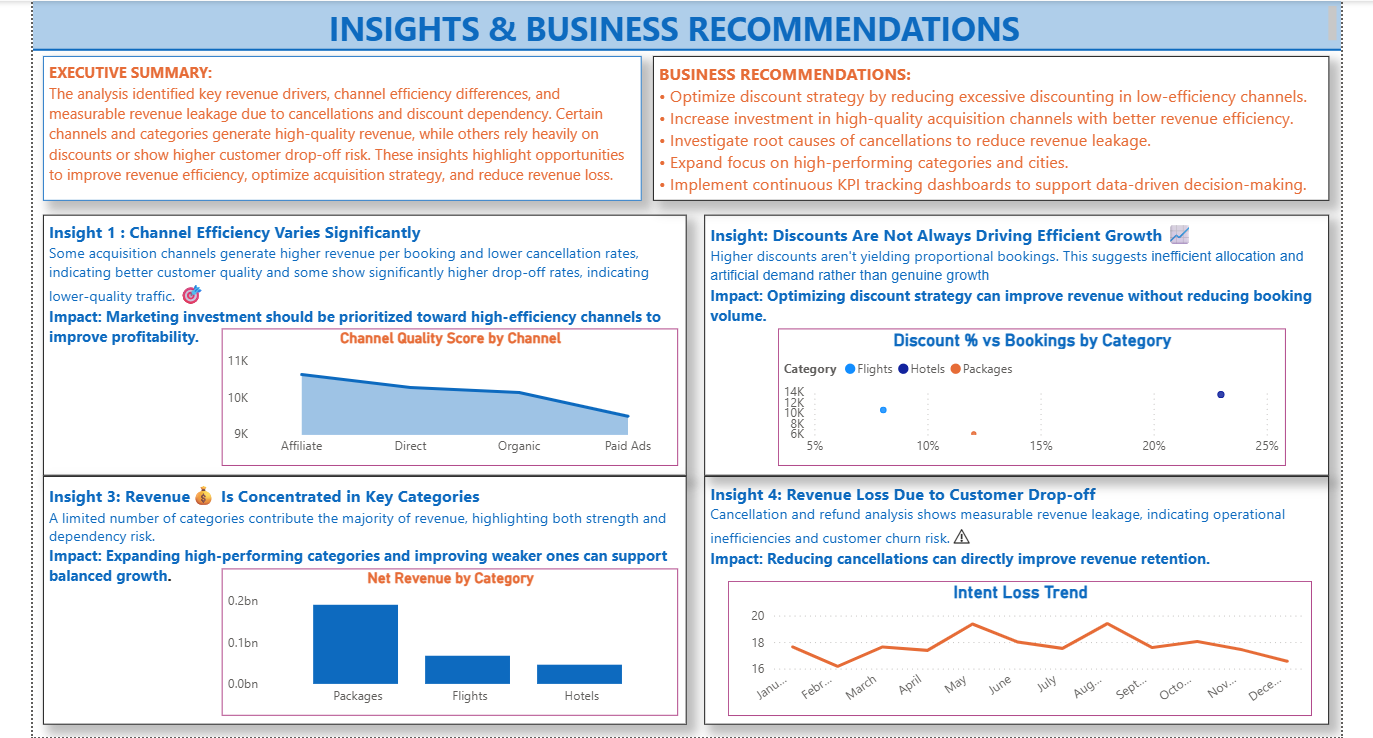

This screenshot's page, from the dashboard's own definition file:
{"tool":"powerbi","page":{"name":"Business Insights & Strategic Recommendations","canvas":[1280,720],"ordinal":8},"visuals":[{"type":"textbox","box":[0,0,1280.3,47.7],"z":0},{"type":"textbox","box":[656.7,464.7,611.4,243.3],"z":1000},{"type":"textbox","box":[9.8,53.8,585.7,141.8],"z":2000},{"type":"textbox","box":[9.8,209.1,629.8,255.6],"z":3000},{"type":"textbox","box":[656.7,209.1,611.4,255.6],"z":4000},{"type":"textbox","box":[9.8,464.7,629.8,243.3],"z":5000},{"type":"textbox","box":[606.5,53.8,661.6,141.8],"z":6000},{"type":"stackedAreaChart","fields":{"Category":["Bookings_Data.Channel"],"Y":["Bookings_Data.Channel Quality Score"]},"box":[184.6,320.4,446.3,134.5],"z":7000},{"type":"lineChart","title":"Intent Loss Trend","fields":{"Y":["Bookings_Data.Cancellation Rate"],"Category":["Bookings_Data.Booking_Date.Variation.Date Hierarchy.Month"]},"box":[679.9,567.4,571.1,132.1],"z":8000},{"type":"lineClusteredColumnComboChart","title":"Net Revenue by Category","fields":{"Category":["Bookings_Data.Category"],"Y":["Sum(Bookings_Data.Net_Revenue)"]},"box":[184.6,555.2,446.3,144.3],"z":9000},{"type":"shape","box":[0,41.6,1280.3,12.2],"z":10000},{"type":"scatterChart","title":"Discount % vs Bookings by Category","fields":{"X":["Avg(Bookings_Data.Discount_%)"],"Y":["CountNonNull(Bookings_Data.Booking_ID)"],"Series":["Bookings_Data.Category"],"Size":["CountNonNull(Bookings_Data.Booking_ID)"]},"box":[728.8,320.4,496.5,134.5],"z":11000}]}

Visuals, with their boxes on the page's 1280x720 design canvas (x1, y1, x2, y2). These are canvas units, not pixel positions in the 1373x738 screenshot, which may show the page scaled, cropped or inside an application window:
textbox: {"x1": 0, "y1": 0, "x2": 1280, "y2": 48}
textbox: {"x1": 657, "y1": 465, "x2": 1268, "y2": 708}
textbox: {"x1": 10, "y1": 54, "x2": 596, "y2": 196}
textbox: {"x1": 10, "y1": 209, "x2": 640, "y2": 465}
textbox: {"x1": 657, "y1": 209, "x2": 1268, "y2": 465}
textbox: {"x1": 10, "y1": 465, "x2": 640, "y2": 708}
textbox: {"x1": 606, "y1": 54, "x2": 1268, "y2": 196}
stackedAreaChart - Bookings_Data.Channel x Bookings_Data.Channel Quality Score: {"x1": 185, "y1": 320, "x2": 631, "y2": 455}
"Intent Loss Trend" lineChart: {"x1": 680, "y1": 567, "x2": 1251, "y2": 700}
"Net Revenue by Category" lineClusteredColumnComboChart: {"x1": 185, "y1": 555, "x2": 631, "y2": 700}
shape: {"x1": 0, "y1": 42, "x2": 1280, "y2": 54}
"Discount % vs Bookings by Category" scatterChart: {"x1": 729, "y1": 320, "x2": 1225, "y2": 455}
